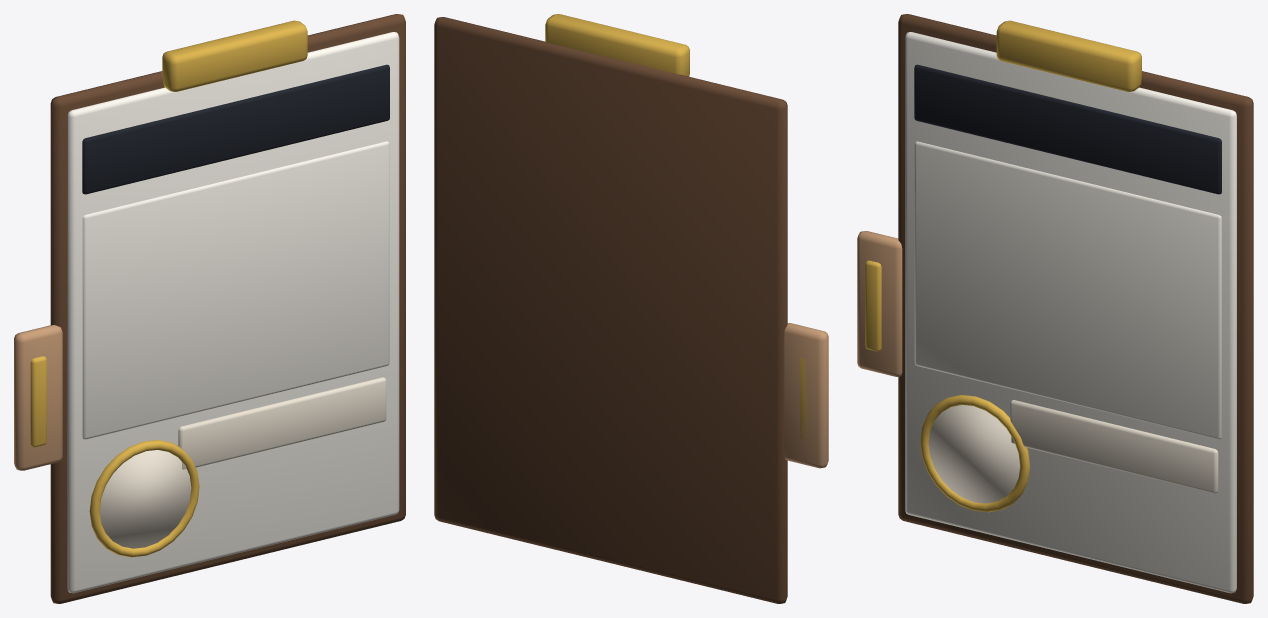
File: Doc_SmallPaper.fbx
The picture shows the model from 3 angles, left to right: view 1: azimuth 30°, elevation 25°; view 2: azimuth 150°, elevation 25°; view 3: azimuth 330°, elevation 25°; orthographic projection.
Visible parts, largest first — view 1: SmallPaper_CreamCeramic, SmallPaper_PaperWarm, SmallPaper_CharcoalVisor, SmallPaper_DarkWood, SmallPaper_WarmBeige, SmallPaper_Brass, SmallPaper_WarmWood; view 2: SmallPaper_DarkWood, SmallPaper_WarmWood, SmallPaper_Brass; view 3: SmallPaper_CreamCeramic, SmallPaper_PaperWarm, SmallPaper_DarkWood, SmallPaper_CharcoalVisor, SmallPaper_WarmBeige, SmallPaper_Brass, SmallPaper_WarmWood.
Boxes of the visible parts, bbox=[...] form: SmallPaper_CreamCeramic: bbox=[82, 141, 389, 439]; SmallPaper_PaperWarm: bbox=[67, 32, 399, 593]; SmallPaper_CharcoalVisor: bbox=[82, 64, 389, 194]; SmallPaper_DarkWood: bbox=[50, 14, 405, 603]; SmallPaper_WarmBeige: bbox=[99, 377, 386, 548]; SmallPaper_Brass: bbox=[30, 20, 307, 557]; SmallPaper_WarmWood: bbox=[14, 325, 62, 470]; SmallPaper_DarkWood: bbox=[434, 17, 787, 603]; SmallPaper_WarmWood: bbox=[784, 323, 828, 468]; SmallPaper_Brass: bbox=[545, 14, 808, 440]; SmallPaper_CreamCeramic: bbox=[914, 141, 1221, 439]; SmallPaper_PaperWarm: bbox=[905, 32, 1236, 593]; SmallPaper_DarkWood: bbox=[898, 14, 1253, 603]; SmallPaper_CharcoalVisor: bbox=[914, 64, 1221, 194]; SmallPaper_WarmBeige: bbox=[928, 400, 1218, 503]; SmallPaper_Brass: bbox=[865, 20, 1141, 512]; SmallPaper_WarmWood: bbox=[857, 231, 902, 376].
Bounding box in the file's own units: 10.2 × 13.15 × 0.75.
